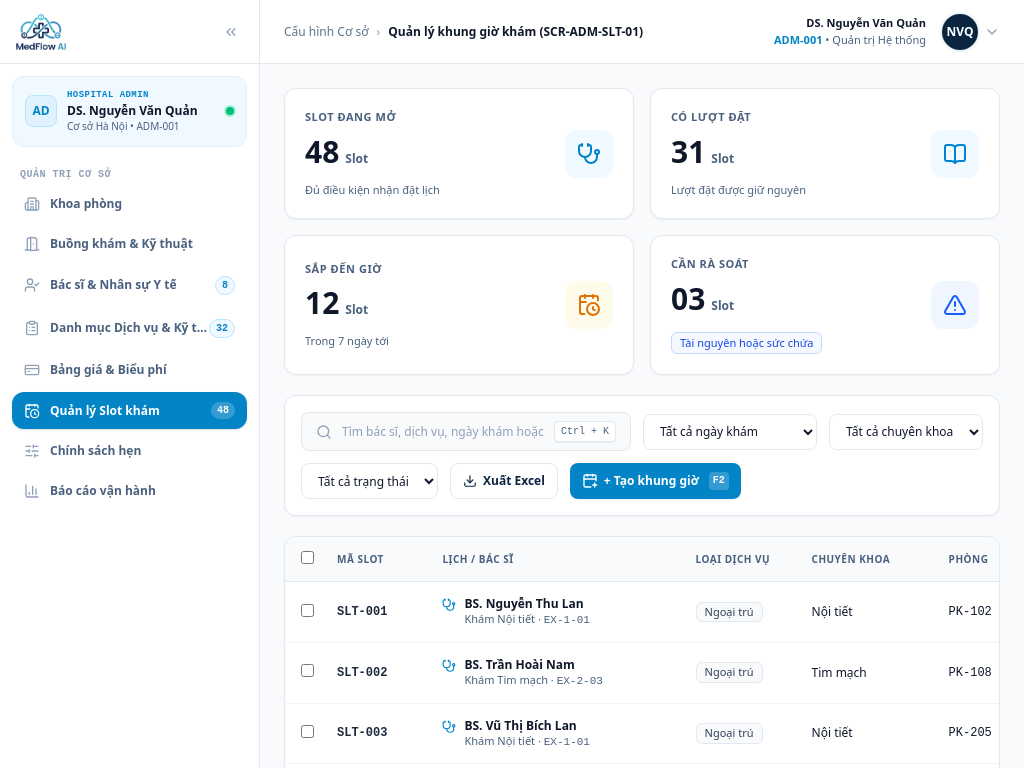
Test: ExaminationSlotListPage (SCR-ADM-SLT-01) › filters slot items by status dropdown
Step 1. Select "Đã đóng" in the dropdown named "Lọc theo trạng thái" → (370, 481), box [301,463,438,499]
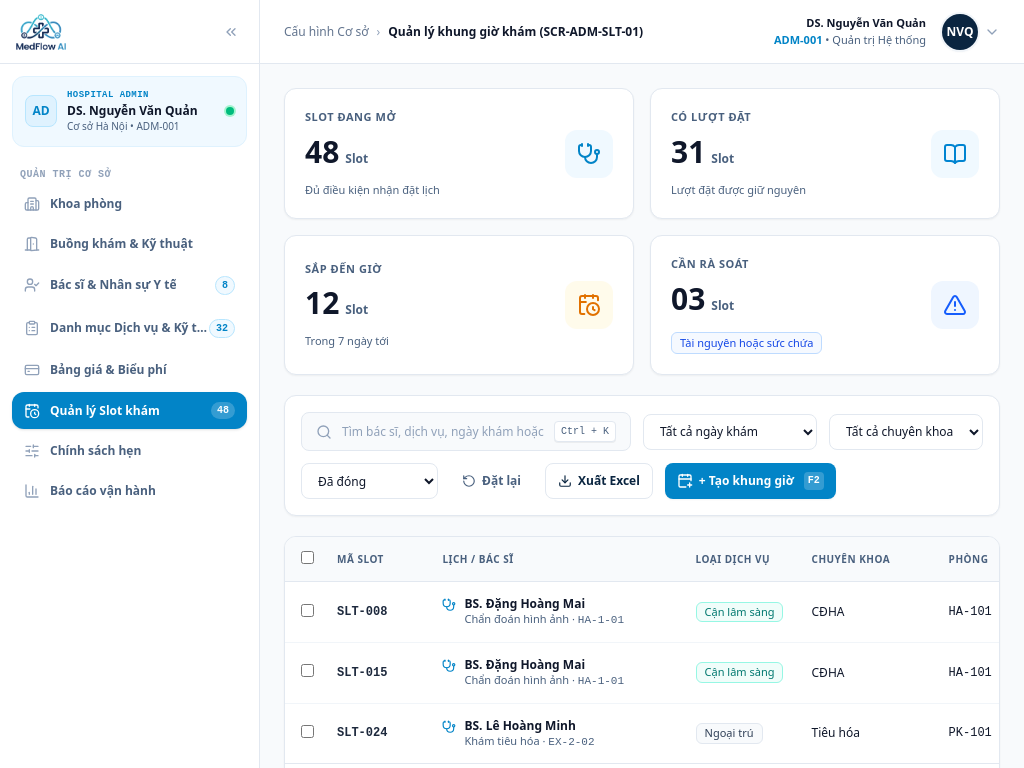
Expected: the text "SLT-008" is shown, [325,582,430,642]
Expected: the text "SLT-001" is gone
